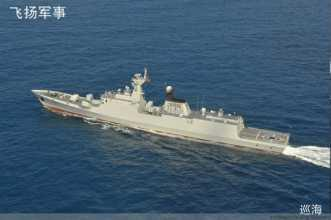warship: (29, 68, 291, 152)
